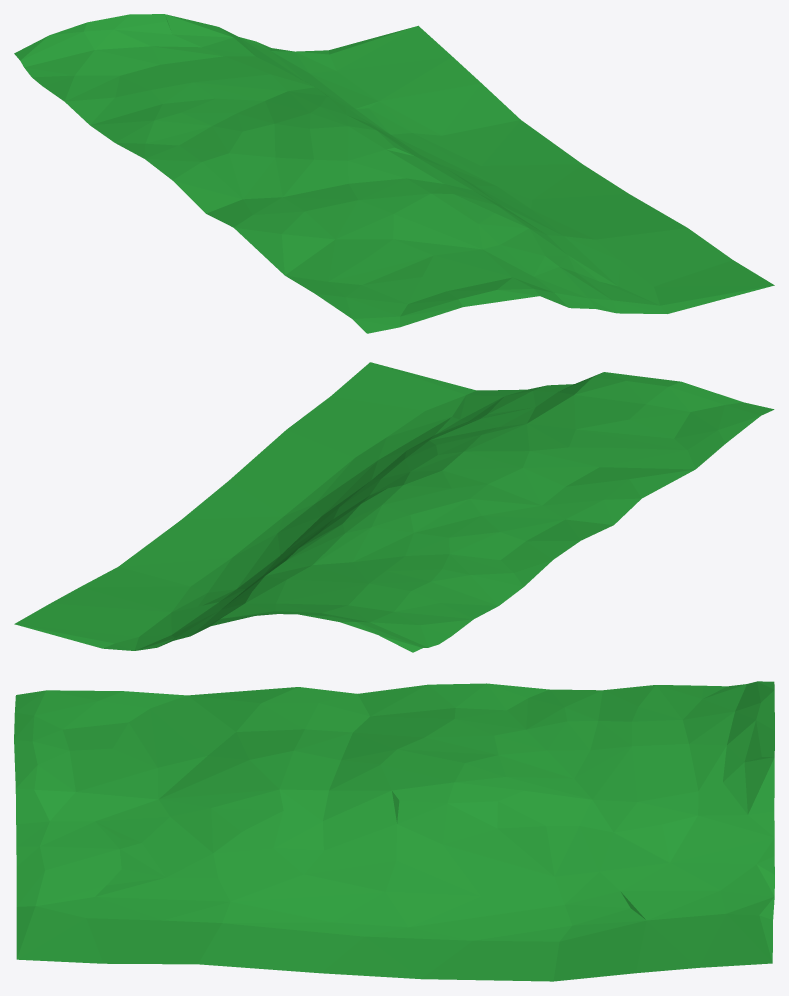
File: Field_R4.fbx
3 renders of one model, top to bottom at view 1: azimuth 30°, elevation 25°; view 2: azimuth 150°, elevation 25°; view 3: azimuth 270°, elevation 25°, orthographic. The views are drawn at different scales.
Parts seen in each view (by area): view 1: R4; view 2: R4; view 3: R4.
Boxes of the visible parts, box(x1,y1,x2,y2) form: R4: box(14, 14, 774, 333); R4: box(14, 362, 774, 652); R4: box(14, 681, 774, 981).
Bounding box in the file's own units: 2427 × 570 × 3686.
